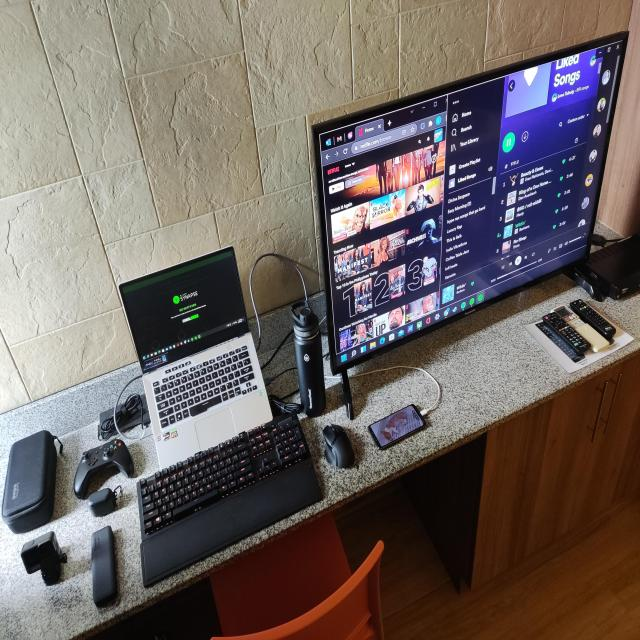keyboard: (136, 413, 317, 562), (151, 339, 271, 468)
